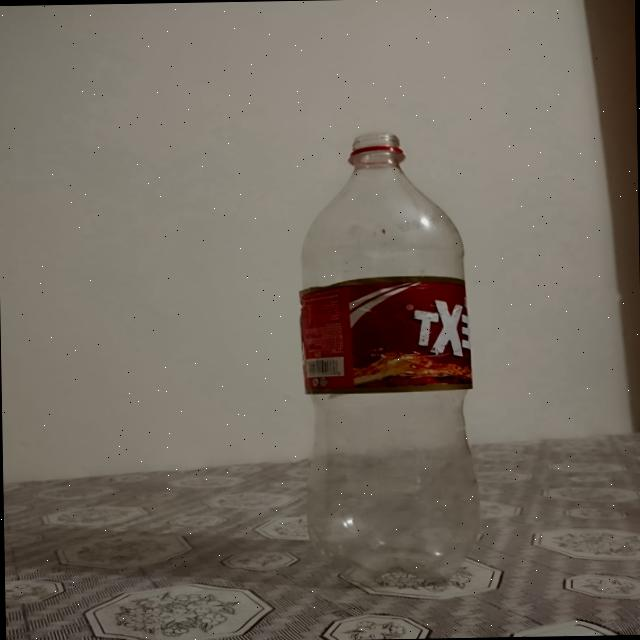bottle: (298, 132, 484, 584)
label: (296, 278, 471, 397)
